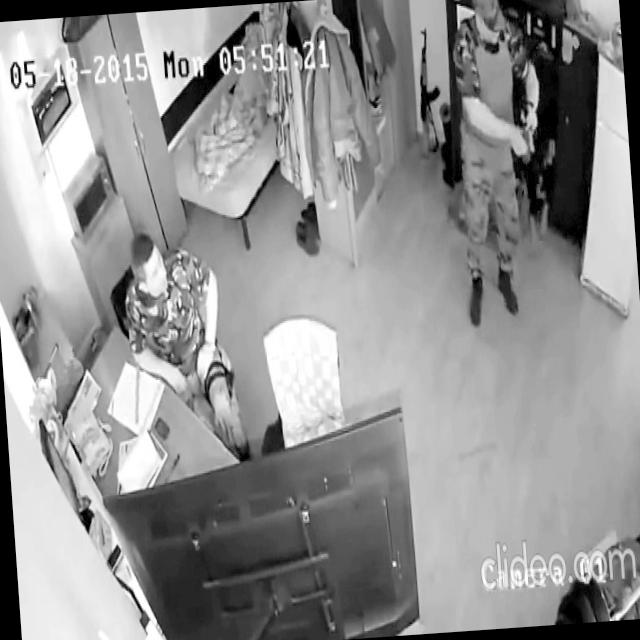gun: (516, 88, 552, 266), (412, 25, 444, 159)
person: (119, 223, 252, 470)
person with a gun: (442, 0, 557, 327)
